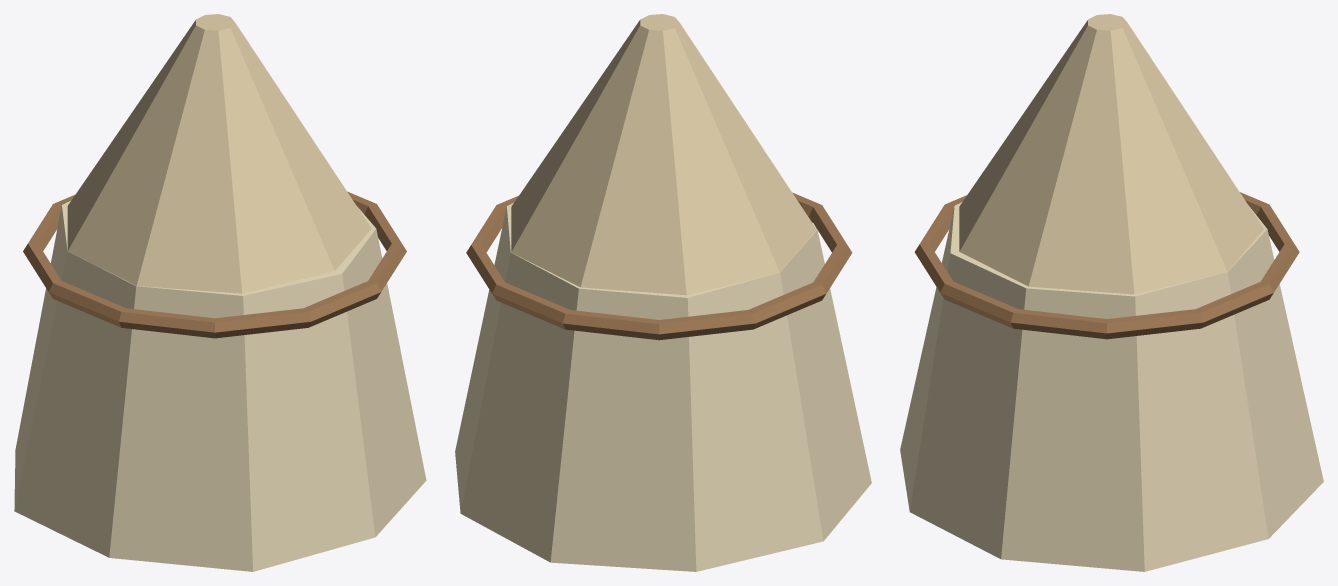
Rendered from ASTX_PROP_GRAINSTACK.glb.
3 renders of one model, left to right at view 1: azimuth 30°, elevation 25°; view 2: azimuth 150°, elevation 25°; view 3: azimuth 270°, elevation 25°, orthographic.
Visible parts, largest first — view 1: ASTX_PROP_GRAINSTACK_base, ASTX_PROP_GRAINSTACK_cap, ASTX_PROP_GRAINSTACK_band; view 2: ASTX_PROP_GRAINSTACK_base, ASTX_PROP_GRAINSTACK_cap, ASTX_PROP_GRAINSTACK_band; view 3: ASTX_PROP_GRAINSTACK_base, ASTX_PROP_GRAINSTACK_cap, ASTX_PROP_GRAINSTACK_band.
Part boxes in pixels (box(x1,y1,x2,y2)): ASTX_PROP_GRAINSTACK_base: box(14, 201, 426, 571); ASTX_PROP_GRAINSTACK_cap: box(67, 14, 371, 293); ASTX_PROP_GRAINSTACK_band: box(23, 191, 406, 338); ASTX_PROP_GRAINSTACK_base: box(455, 203, 871, 571); ASTX_PROP_GRAINSTACK_cap: box(511, 14, 816, 295); ASTX_PROP_GRAINSTACK_band: box(466, 192, 852, 340); ASTX_PROP_GRAINSTACK_base: box(900, 202, 1323, 571); ASTX_PROP_GRAINSTACK_cap: box(959, 14, 1263, 294); ASTX_PROP_GRAINSTACK_band: box(914, 192, 1299, 339).
Size of the model in its own units: 1.67 by 2 by 1.67.
